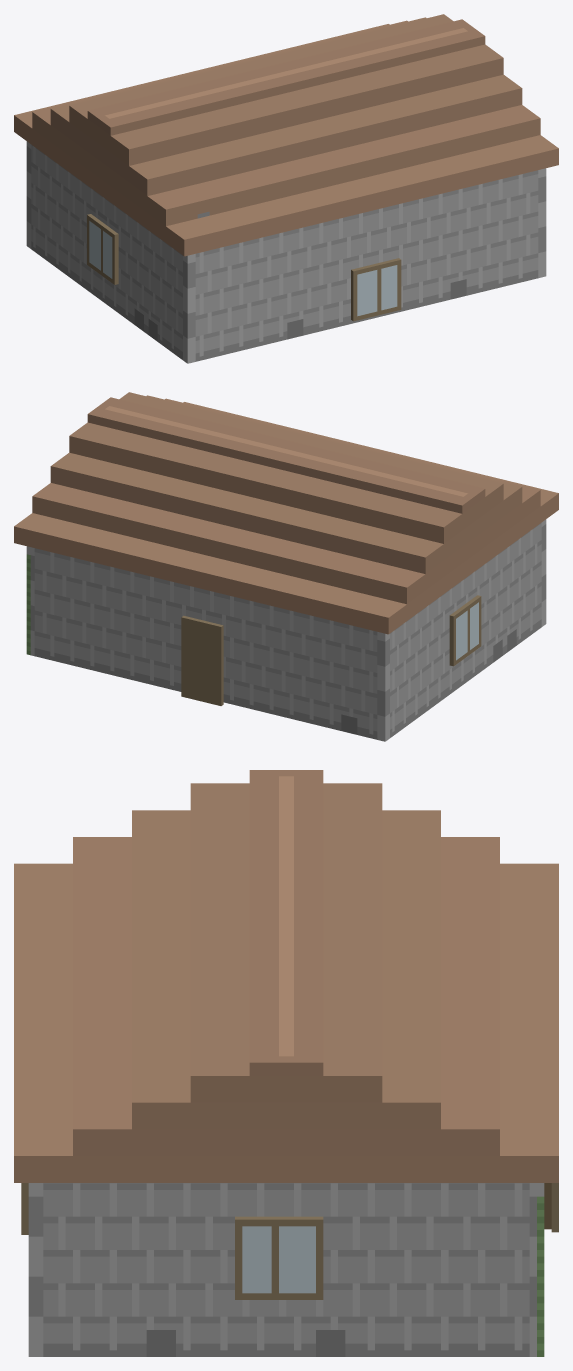
The model's file is ruina_03.glb.
3 views of the same model, one above another, from view 1: azimuth 30°, elevation 25°; view 2: azimuth 150°, elevation 25°; view 3: azimuth 270°, elevation 25° (orthographic). The views are drawn at different scales.
Visible parts, largest first — view 1: ruina_03; view 2: ruina_03; view 3: ruina_03.
Boxes of the visible parts, x1=… form: ruina_03: x1=14, y1=14, x2=558, y2=363; ruina_03: x1=14, y1=392, x2=558, y2=741; ruina_03: x1=14, y1=770, x2=558, y2=1356.
Bounding box in the file's own units: 9.4 × 4.5 × 7.4.
